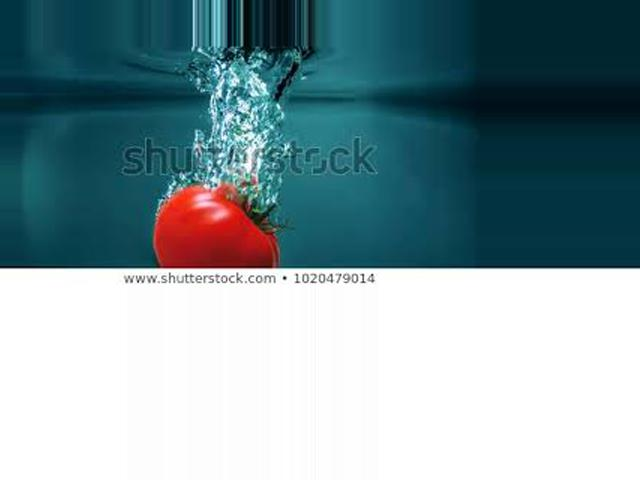tomato: (154, 184, 280, 268)
